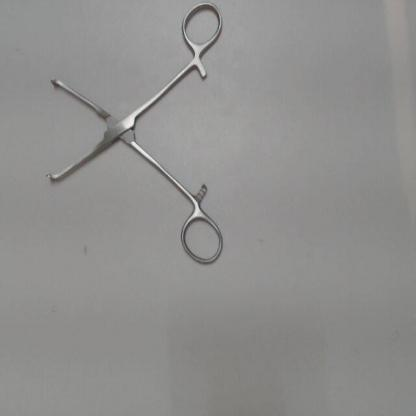Allis Tissue Forceps: (40, 1, 228, 271)
